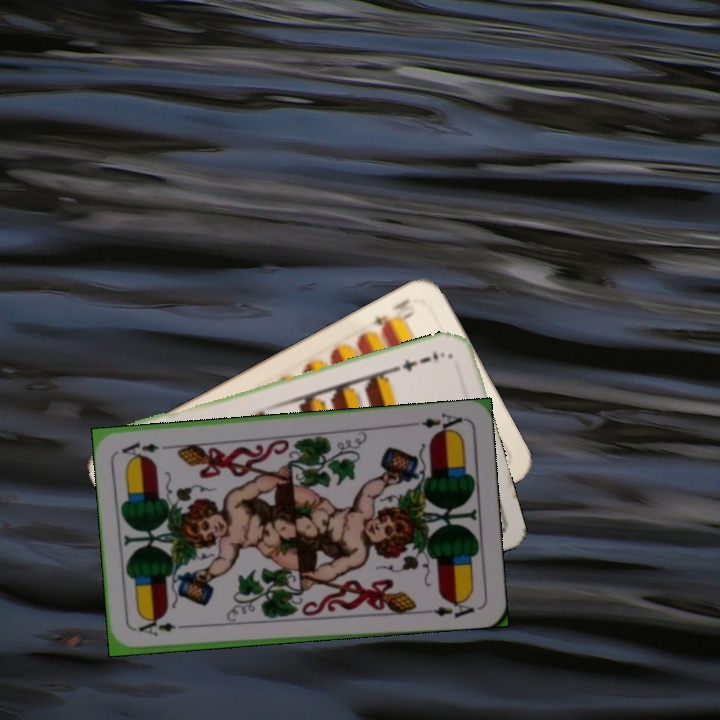E10: (368, 294, 417, 336)
E7: (391, 346, 448, 374)
EA: (407, 409, 465, 437), (132, 617, 178, 639)
